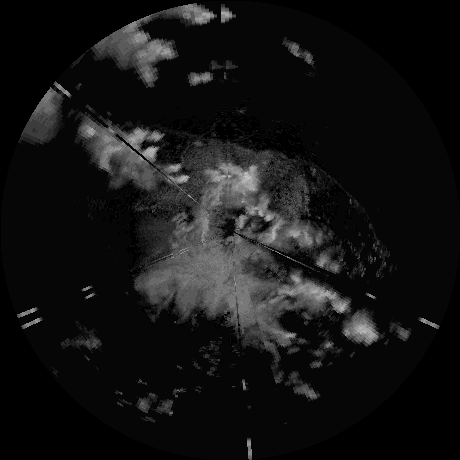frontgust: (301, 166, 386, 264)
